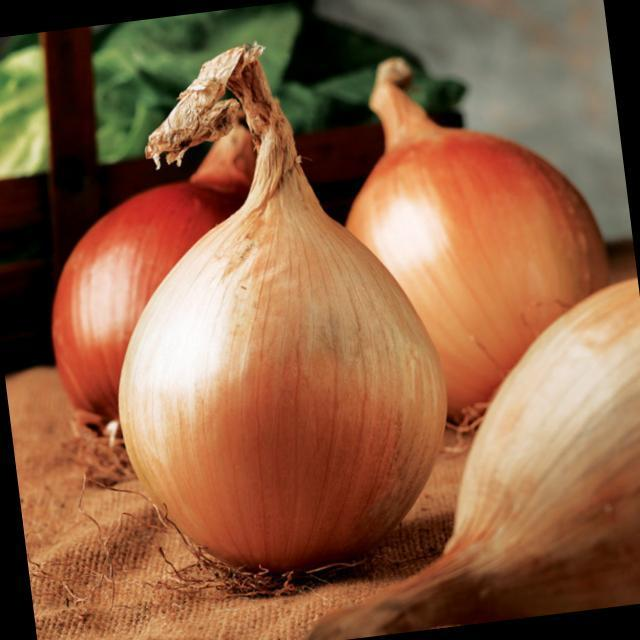ONIONS: (100, 166, 477, 586), (348, 25, 624, 337), (429, 270, 640, 623), (35, 170, 232, 394)
